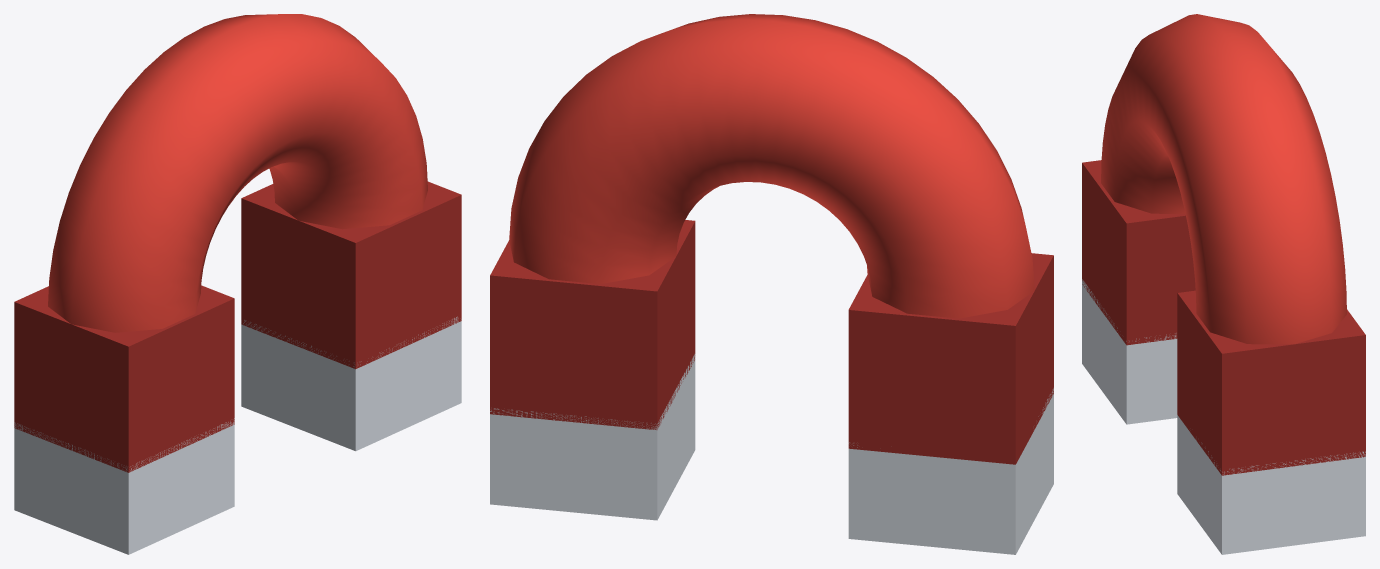
Rendered from Magnet3D.glb.
The picture shows the model from 3 angles, left to right: view 1: azimuth 30°, elevation 25°; view 2: azimuth 150°, elevation 25°; view 3: azimuth 270°, elevation 25°; orthographic projection. The views are drawn at different scales.
Visible parts, largest first — view 1: Body; view 2: Body; view 3: Body.
Part boxes in pixels (x1,y1,x2,y2): Body: [14, 14, 461, 554]; Body: [490, 14, 1053, 554]; Body: [1082, 14, 1365, 554].
Size of the model in its own units: 1.85 by 1.71 by 1.06.
Materials: 1 (1 with a texture image).
